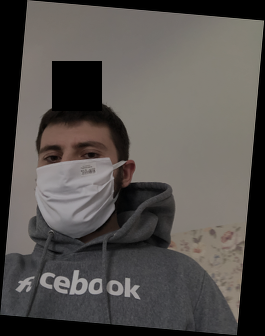with_mask: (35, 139, 118, 239)
